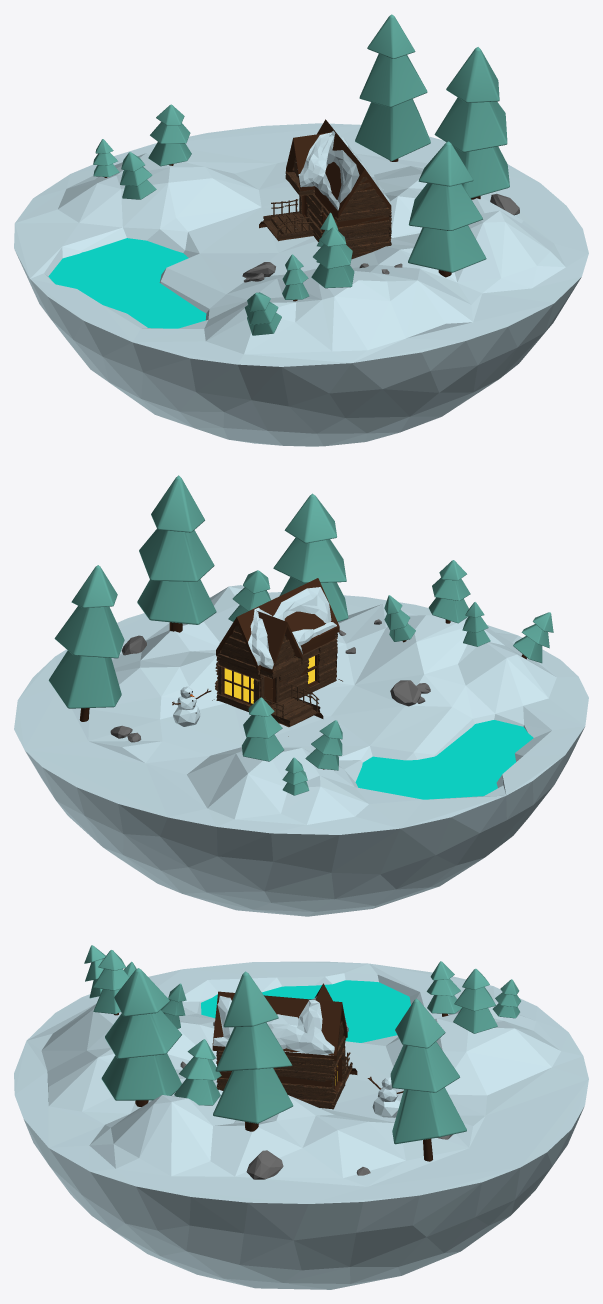
File: interior.glb
The picture shows the model from 3 angles, top to bottom: view 1: azimuth 30°, elevation 25°; view 2: azimuth 150°, elevation 25°; view 3: azimuth 270°, elevation 25°; orthographic projection. The views are drawn at different scales.
Visible parts, largest first — view 1: Ground, Lake, Tree4.004, Tree3, Tree2, HouseBlocking, HouseBlocking.001, Tree4.002, Tree4, Tree1, Tree1.001, Tree2.001 (+1 smaller); view 2: Ground, Lake, Tree3, Tree4.004, Tree2, HouseBlocking, HouseBlocking.001, Tree4, Tree4.002, Tree1, Tree1.001, Tree4.001 (+5 smaller); view 3: Ground, Tree3, Tree2, Tree4.004, Lake, HouseBlocking, HouseBlocking.001, Tree4.001, Tree4, Tree4.002, Tree1, Icosphere.016 (+5 smaller).
Boxes of the visible parts, bbox=[...] form: Ground: bbox=[14, 123, 588, 446]; Lake: bbox=[48, 238, 206, 328]; Tree4.004: bbox=[355, 14, 430, 161]; Tree3: bbox=[434, 47, 509, 198]; Tree2: bbox=[408, 141, 486, 272]; HouseBlocking: bbox=[286, 119, 391, 247]; HouseBlocking.001: bbox=[286, 130, 390, 210]; Tree4.002: bbox=[311, 227, 354, 288]; Tree4: bbox=[148, 104, 191, 166]; Tree1: bbox=[120, 152, 156, 199]; Tree1.001: bbox=[244, 292, 281, 335]; Tree2.001: bbox=[282, 254, 309, 299]; Ground: bbox=[14, 585, 588, 916]; Lake: bbox=[355, 720, 533, 799]; Tree3: bbox=[137, 475, 216, 624]; Tree4.004: bbox=[48, 565, 124, 721]; Tree2: bbox=[273, 493, 348, 621]; HouseBlocking: bbox=[216, 578, 339, 705]; HouseBlocking.001: bbox=[219, 587, 336, 669]; Tree4: bbox=[241, 697, 284, 761]; Tree4.002: bbox=[428, 560, 470, 623]; Tree1: bbox=[305, 720, 342, 770]; Tree1.001: bbox=[513, 612, 553, 663]; Tree4.001: bbox=[228, 570, 270, 621]; Ground: bbox=[14, 961, 588, 1289]; Tree3: bbox=[213, 971, 293, 1123]; Tree2: bbox=[101, 968, 181, 1100]; Tree4.004: bbox=[390, 998, 466, 1161]; Lake: bbox=[201, 980, 410, 1042]; HouseBlocking: bbox=[212, 983, 347, 1092]; HouseBlocking.001: bbox=[213, 996, 348, 1055]; Tree4.001: bbox=[174, 1039, 221, 1105]; Tree4: bbox=[453, 968, 497, 1033]; Tree4.002: bbox=[93, 950, 129, 1014]; Tree1: bbox=[426, 961, 462, 1013]; Icosphere.016: bbox=[246, 1150, 283, 1179].
Bounding box in the file's own units: 3.53 × 2.44 × 3.54.
9 materials, 1 textured.
